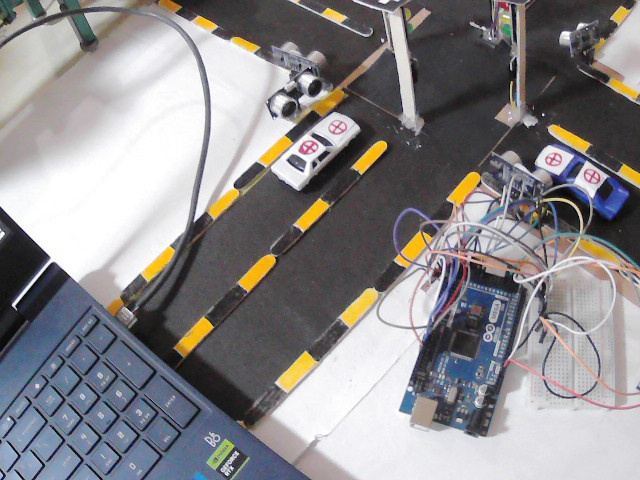aruco_marker: (356, 0, 408, 13)
emergency_vehicle: (531, 143, 631, 223), (272, 112, 361, 194)
traffic_light: (495, 0, 518, 57), (397, 5, 415, 49)
uno_breadboard: (396, 255, 530, 442), (524, 269, 620, 414), (488, 147, 553, 211), (265, 67, 327, 121), (269, 40, 333, 78), (557, 18, 601, 60)
